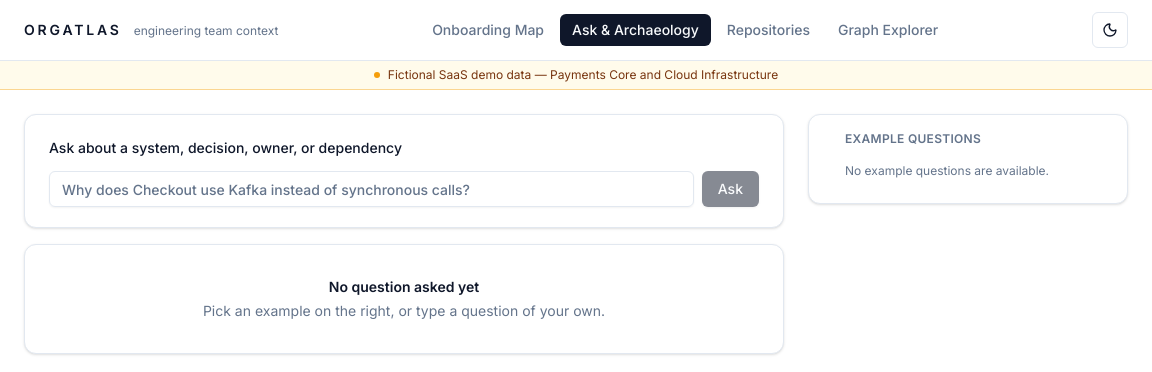
Test case: App › starts on the ask workspace and can switch views
The width and height of the screenshot is (1152, 372).
Expected: the heading "No question asked yet" is shown, [329,278,479,295]
Click the button "Graph Explorer" at [888, 30], box [826,14,950,46]
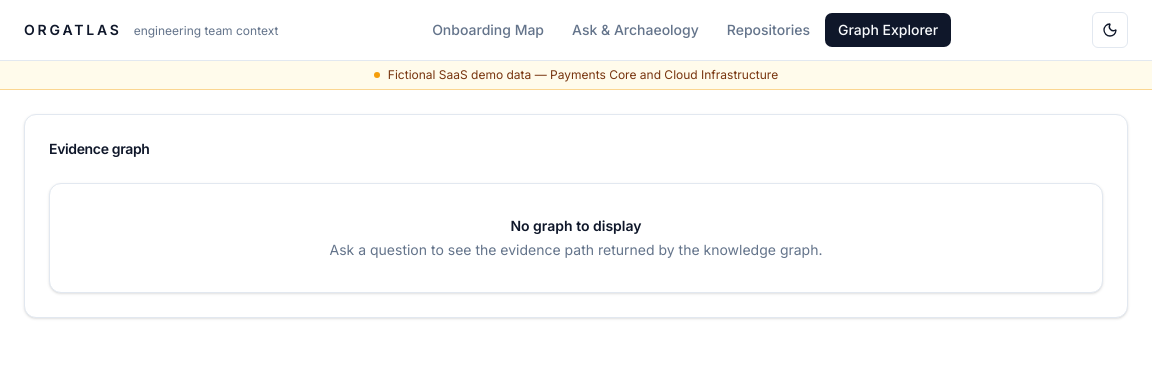
Expected: the heading "No graph to display" is shown, [510,217,642,234]
Click the button "Onboarding Map" at [488, 30], box [420,14,556,46]
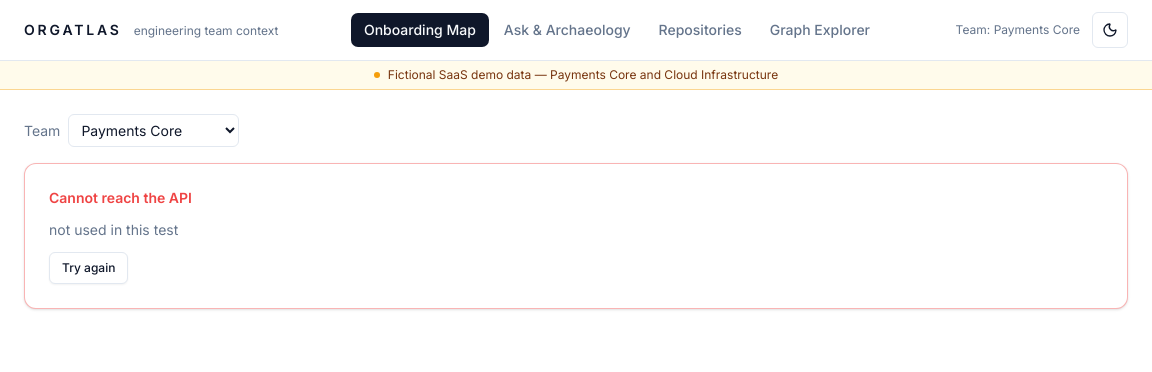
Expected: the dropdown labelled "Team" is shown, [68,114,239,147]
